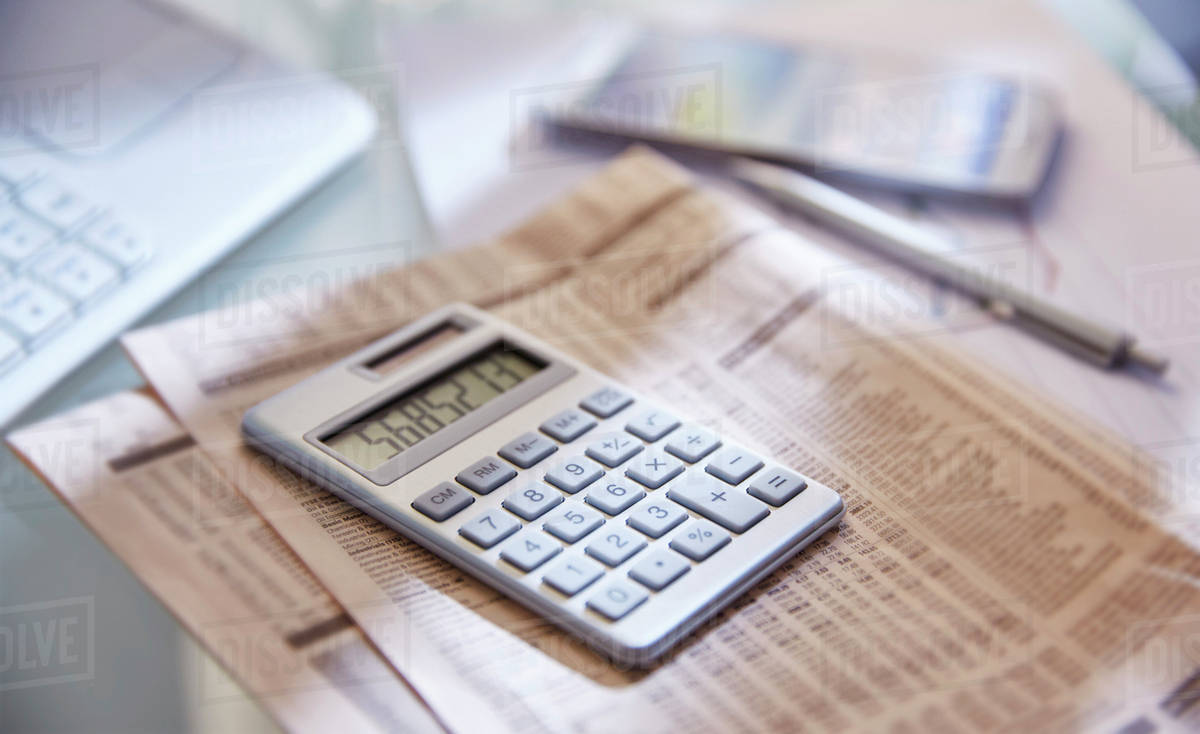Calculator: (233, 294, 849, 676)
